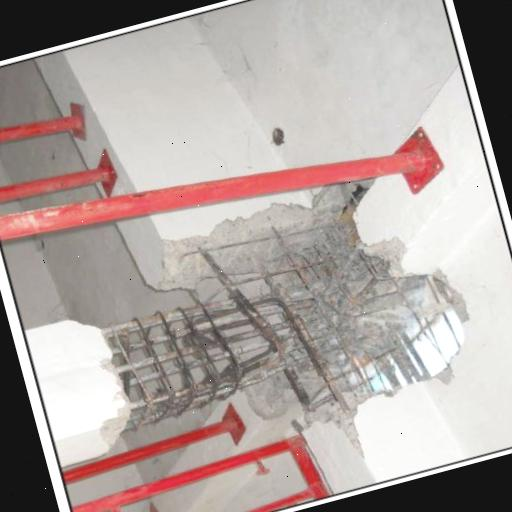spalling: (82, 241, 410, 433)
